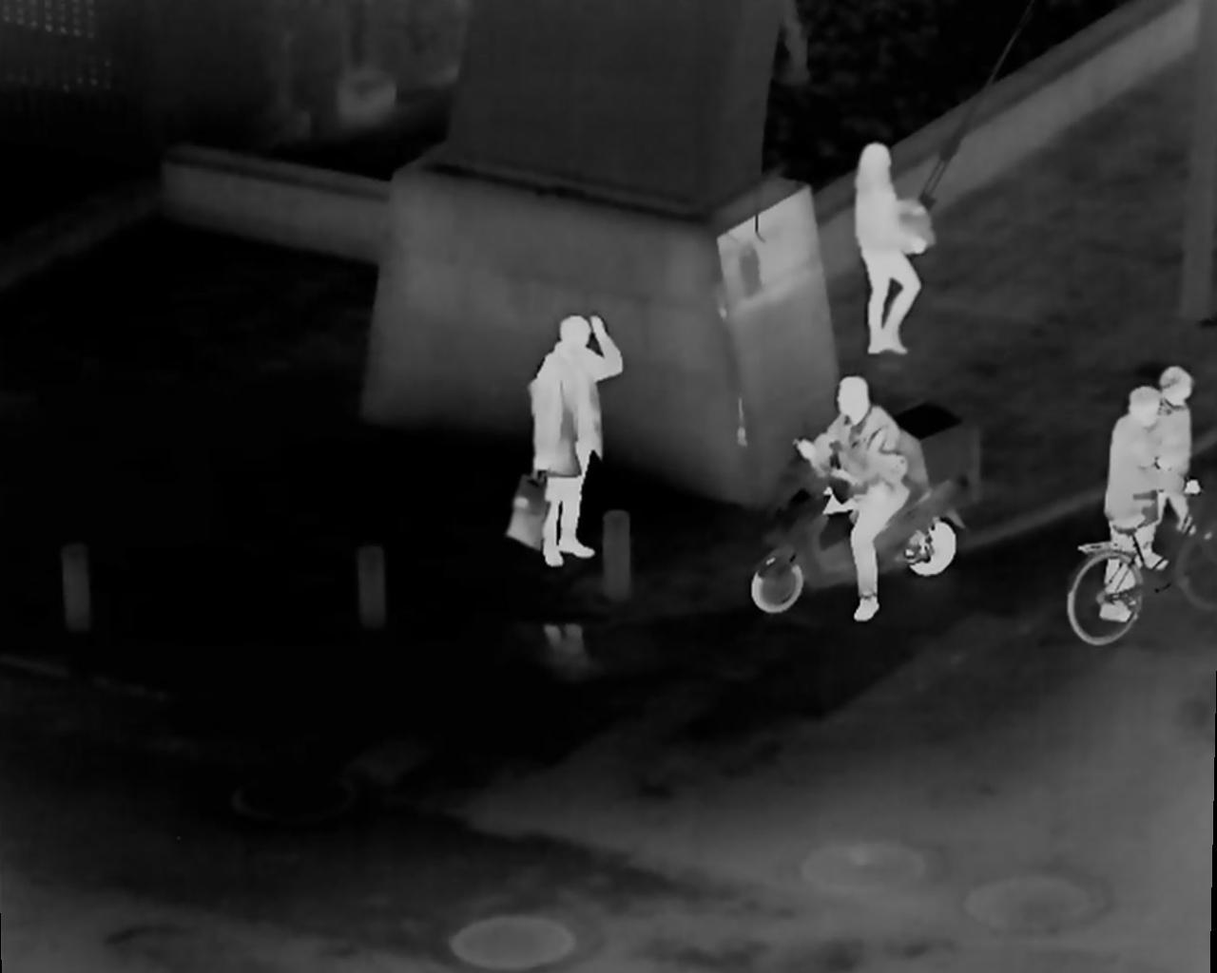person: (525, 305, 628, 576), (814, 377, 914, 639), (860, 140, 921, 357), (1102, 390, 1156, 626), (1149, 364, 1207, 544)
